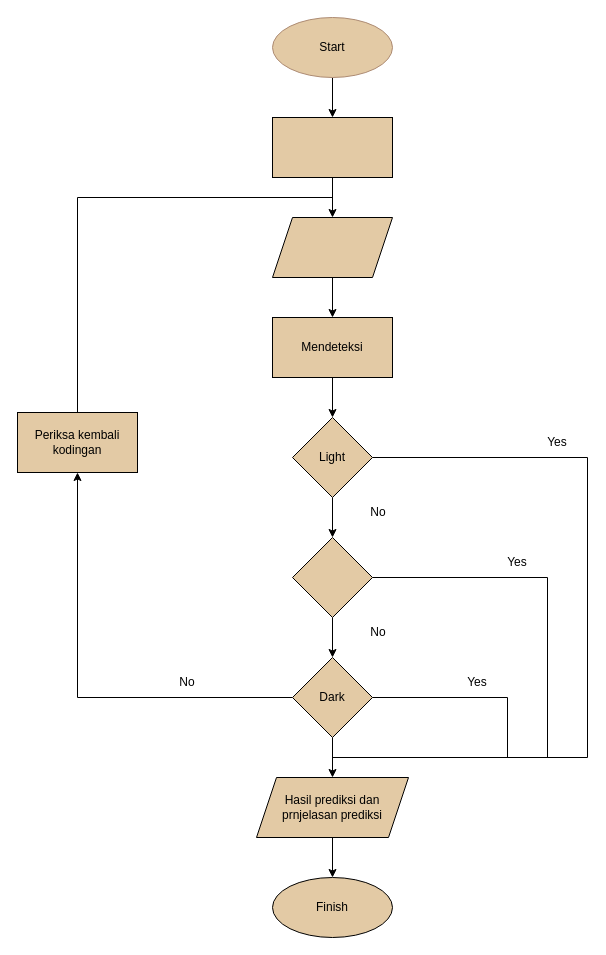
This 606x955 diagram has some shape labels left out. The shapes that lost their labels are listed below. From the top down, each one's centre as x and y in pixels, then its label:
At (x=332, y=147): "Halaman website".
At (x=332, y=247): "Upload gambar".
At (x=332, y=577): "Medium".
